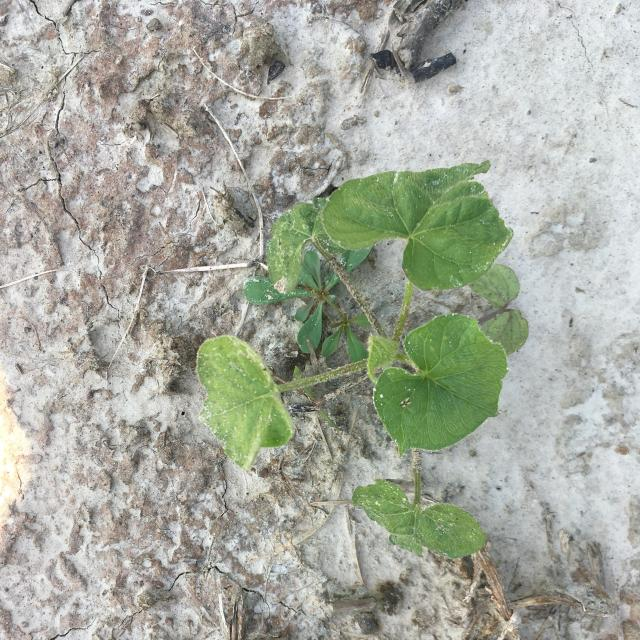Carpetweed: (241, 247, 369, 365)
MorningGlory: (194, 160, 531, 560)
